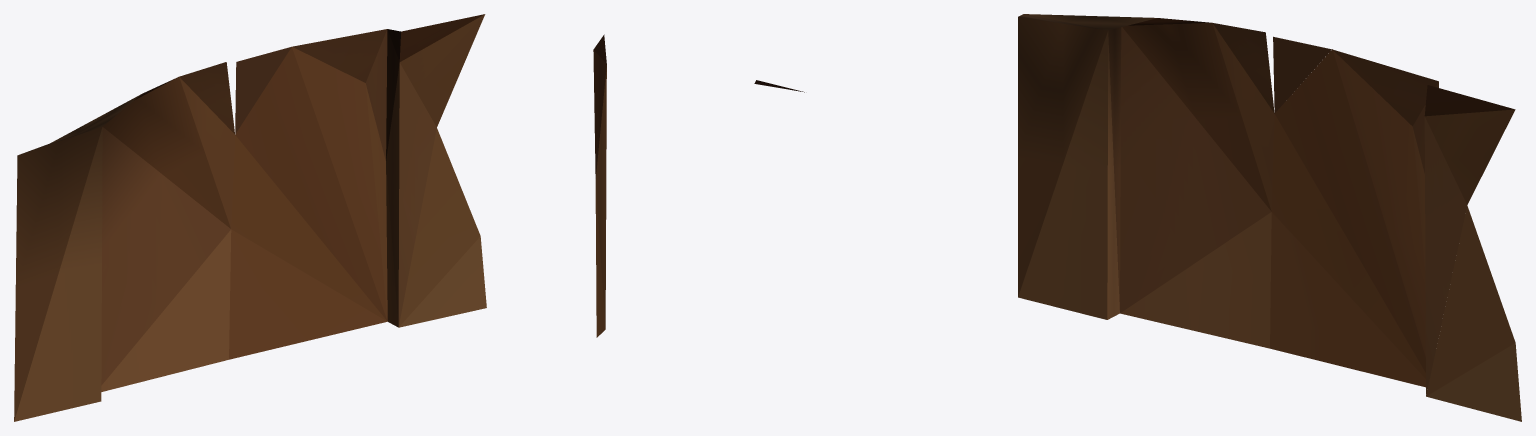
The model's file is building-circuitLamp-boxDoor.glb.
The picture shows the model from 3 angles, left to right: view 1: azimuth 30°, elevation 25°; view 2: azimuth 150°, elevation 25°; view 3: azimuth 330°, elevation 25°; orthographic projection. The views are drawn at different scales.
Visible parts, largest first — view 1: 0_circuitLamp.001; view 2: 0_circuitLamp.001; view 3: 0_circuitLamp.001.
Boxes of the visible parts, left/top/right/bottom form: 0_circuitLamp.001: left=14, top=14, right=486, bottom=421; 0_circuitLamp.001: left=593, top=34, right=804, bottom=337; 0_circuitLamp.001: left=1018, top=14, right=1521, bottom=421.
Bounding box in the file's own units: 0.3535 × 0.2145 × 0.0359.
